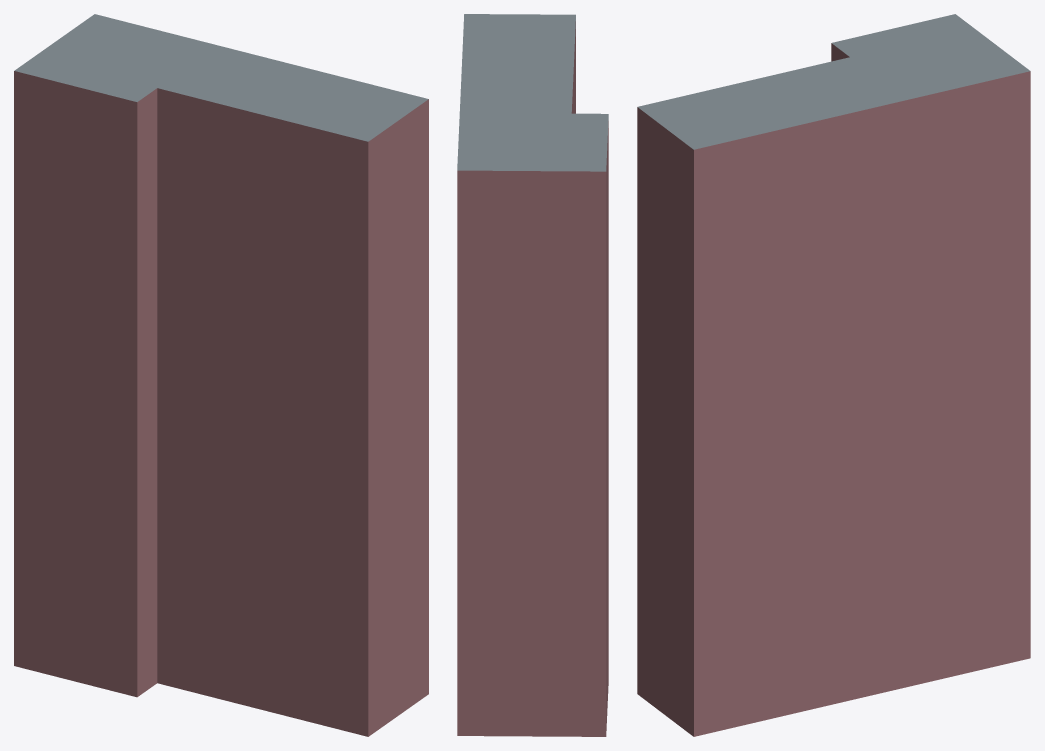
Rendered from nyc-1022564-0.glb.
The picture shows the model from 3 angles, left to right: view 1: azimuth 30°, elevation 25°; view 2: azimuth 150°, elevation 25°; view 3: azimuth 270°, elevation 25°; orthographic projection. The views are drawn at different scales.
Visible parts, largest first — view 1: nyc-1022564-0; view 2: nyc-1022564-0; view 3: nyc-1022564-0.
Part boxes in pixels (<box>): nyc-1022564-0: <box>14,14,428,736</box>; nyc-1022564-0: <box>457,14,608,736</box>; nyc-1022564-0: <box>637,14,1030,736</box>.
Bounding box in the file's own units: 50.08 × 101 × 61.3.
